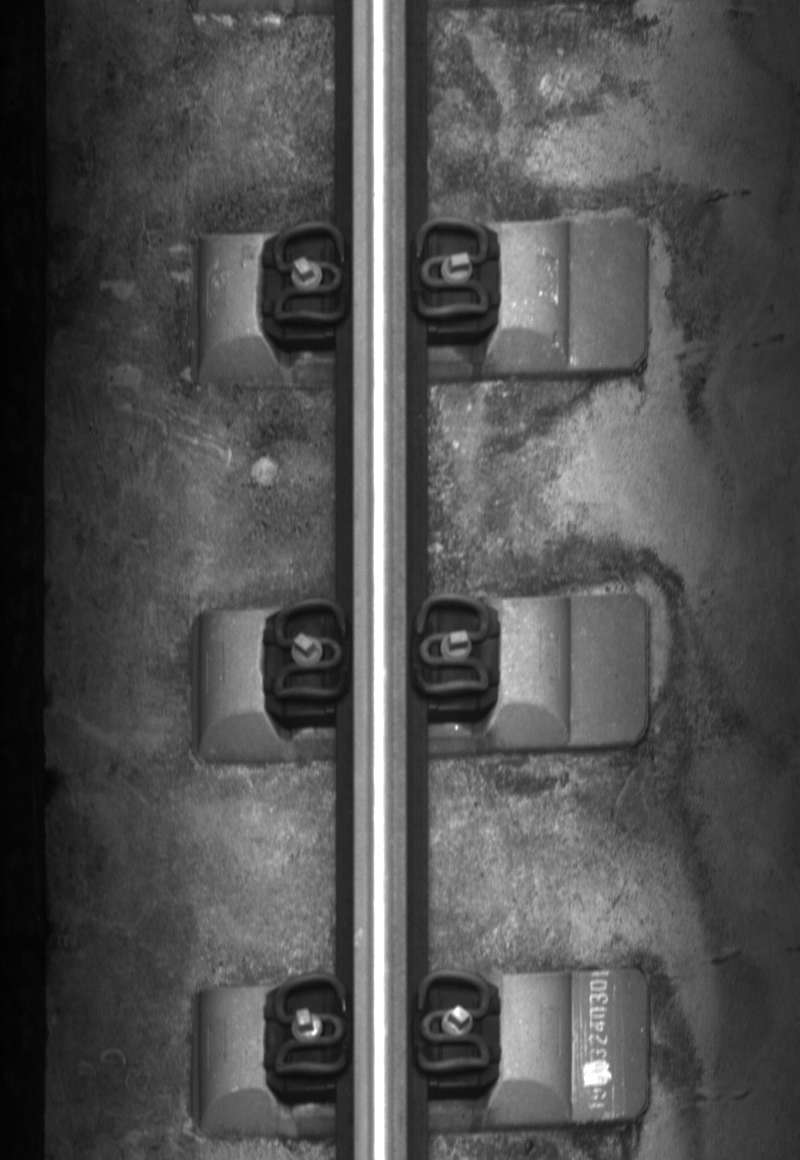l_faster: (267, 595, 351, 711), (267, 217, 351, 332), (270, 968, 353, 1082)
r_faster: (409, 210, 494, 325), (411, 964, 495, 1078), (411, 587, 494, 702)
